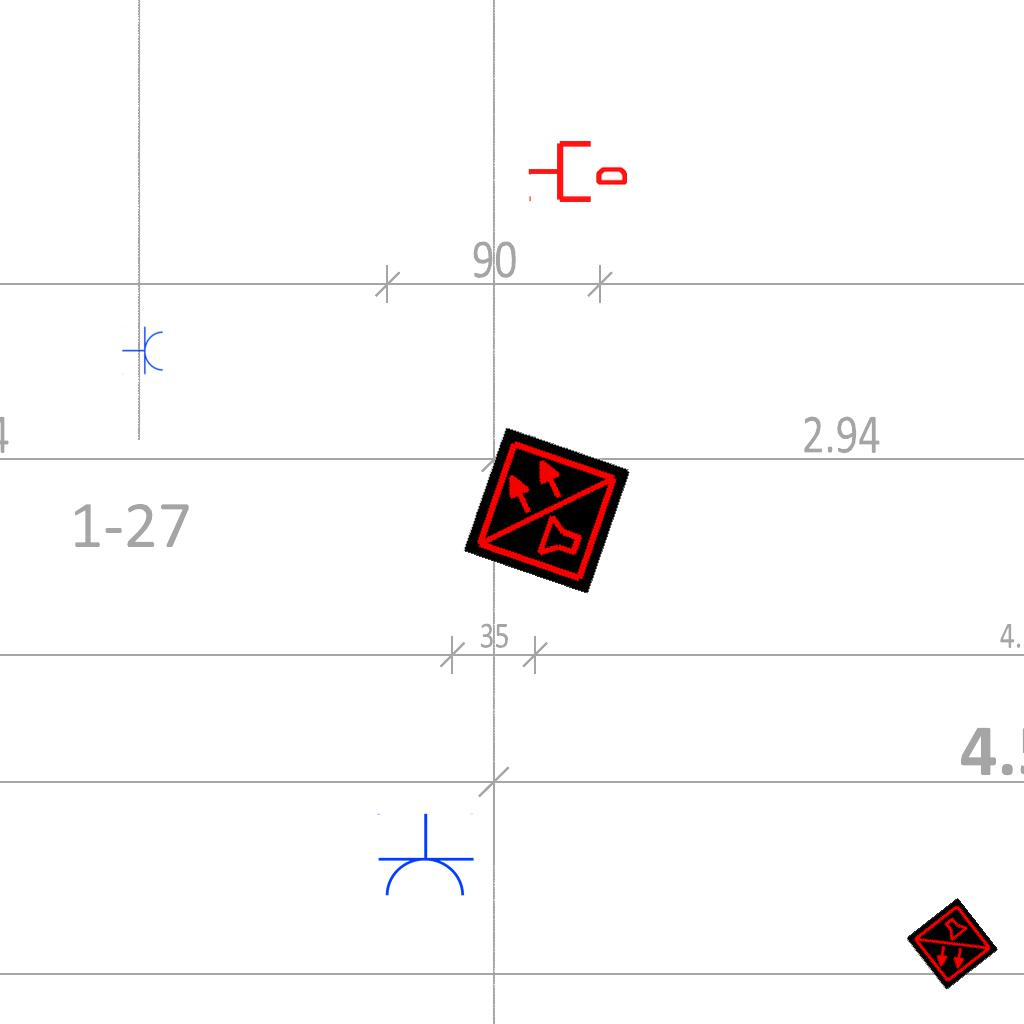Datenanschluss_einfach: (527, 137, 627, 206)
OKW_Multisensormelder_(Kombination_optischer_Rauch-Kahlenmonoxid_Waerme-Melder): (463, 426, 631, 594), (905, 897, 999, 991)
Schukosteckdose_einfach: (375, 813, 475, 900), (122, 326, 165, 376)
